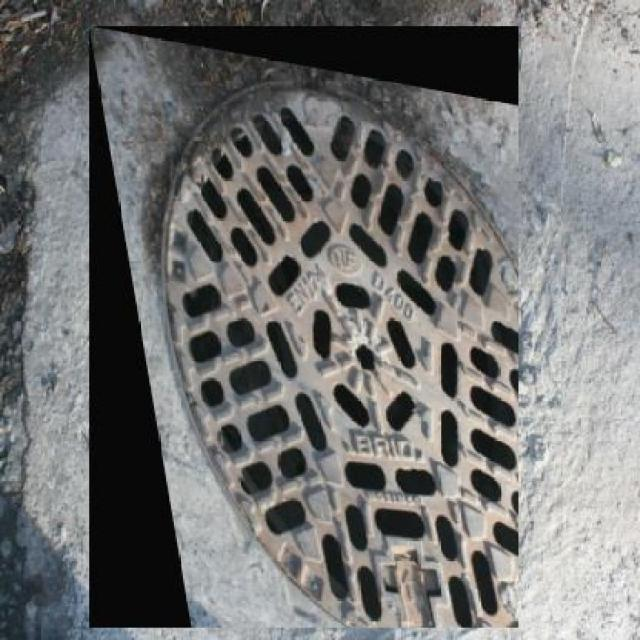Manhole: (90, 26, 518, 628)
